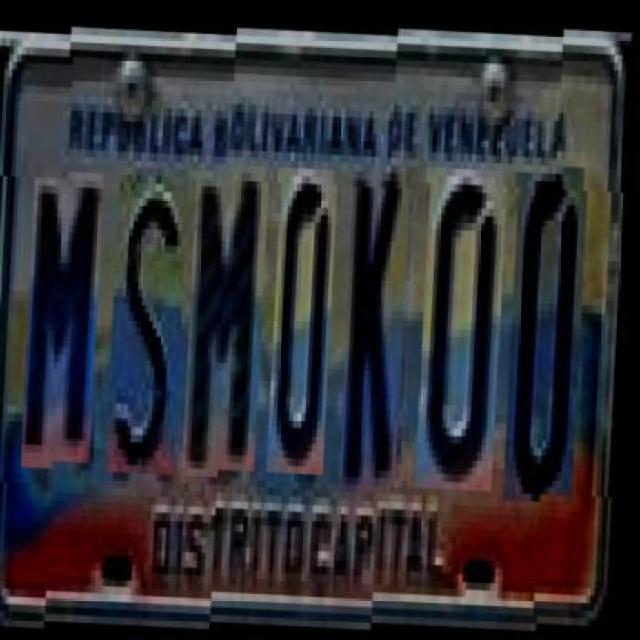0: (419, 163, 510, 486), (508, 166, 590, 497), (272, 156, 341, 464)
k: (342, 160, 413, 482)
m: (187, 153, 271, 461), (26, 154, 106, 446)
s: (111, 158, 191, 458)
